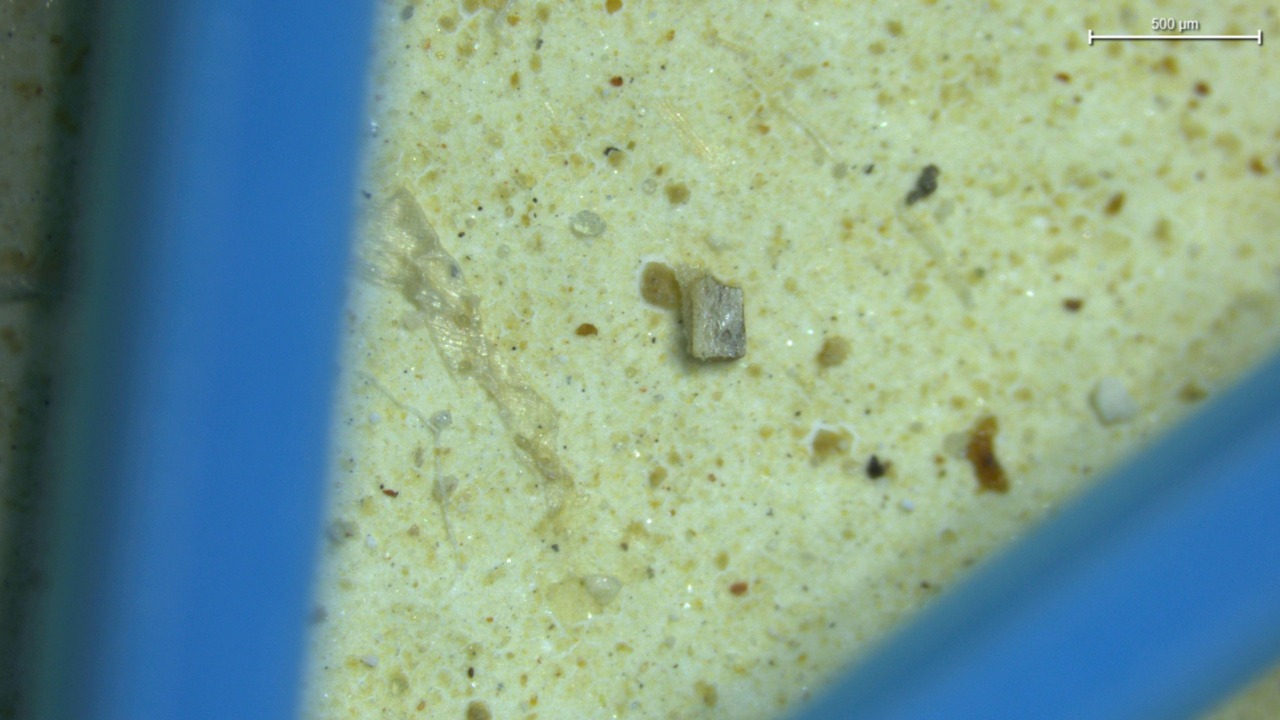microplastic_fragment: (683, 275, 745, 360), (569, 210, 606, 237)
